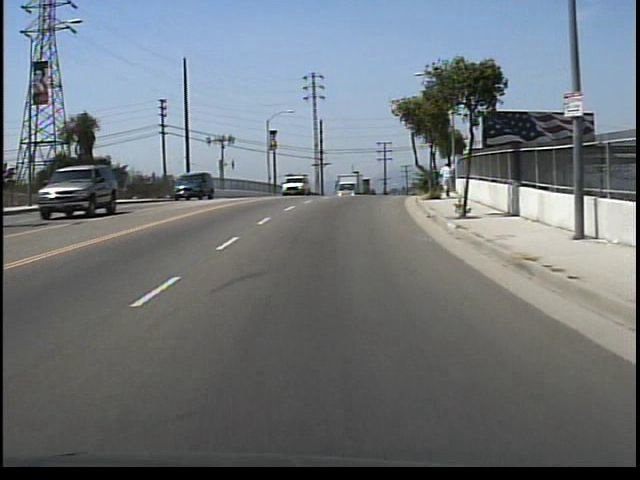person: (440, 159, 457, 199)
